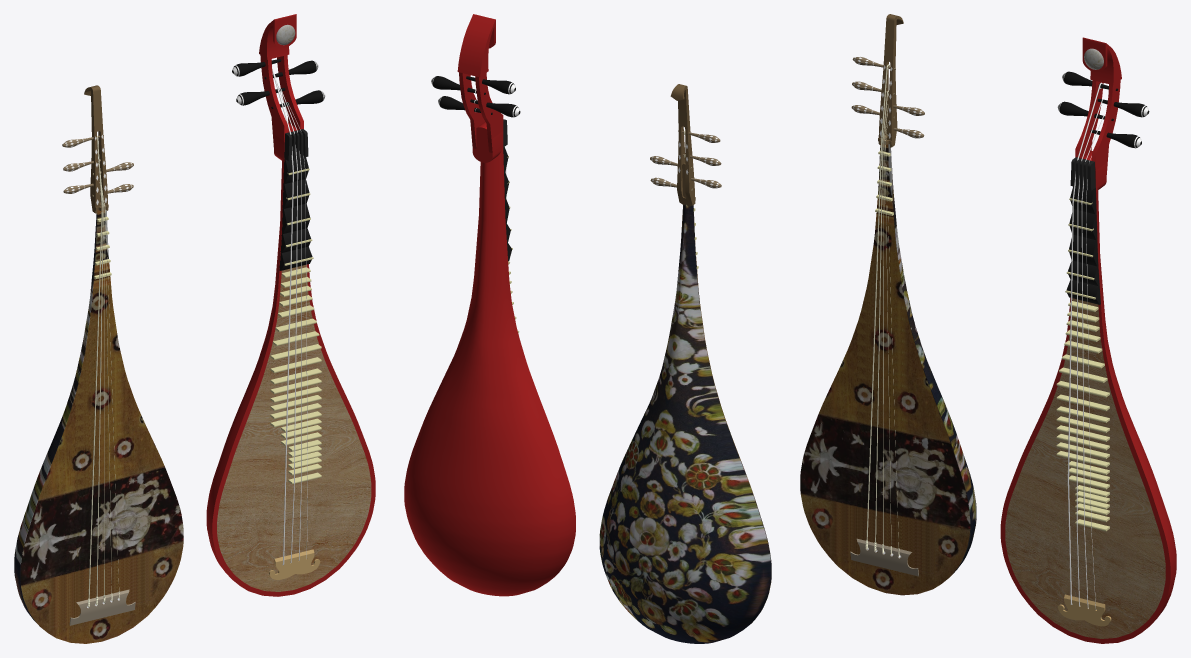
The model's file is pipa.glb.
The picture shows the model from 3 angles, left to right: view 1: azimuth 30°, elevation 25°; view 2: azimuth 150°, elevation 25°; view 3: azimuth 330°, elevation 25°; orthographic projection. The views are drawn at different scales.
Visible parts, largest first — view 1: Sphere007, Sphere005, Sphere003, Sphere001, Box002, Box004, Box024, Box025, Box061, Cylinder015, Cylinder002, Box023 (+7 smaller); view 2: Sphere003, Sphere001, Box025, Box002, Box024, Box023, Box021; view 3: Sphere007, Sphere005, Sphere003, Sphere001, Box002, Box004, Box025, Box023, Box061, Cylinder015, Cylinder002, Box024 (+9 smaller).
Boxes of the visible parts, x1=… form: Sphere007: x1=20, y1=210, x2=183, y2=643; Sphere005: x1=217, y1=265, x2=371, y2=591; Sphere003: x1=206, y1=156, x2=375, y2=596; Sphere001: x1=14, y1=214, x2=97, y2=626; Box002: x1=84, y1=85, x2=108, y2=213; Box004: x1=69, y1=589, x2=135, y2=625; Box024: x1=260, y1=55, x2=287, y2=146; Box025: x1=259, y1=14, x2=296, y2=59; Box061: x1=269, y1=549, x2=320, y2=579; Cylinder015: x1=272, y1=66, x2=293, y2=565; Cylinder002: x1=87, y1=135, x2=102, y2=607; Box023: x1=277, y1=55, x2=303, y2=129; Sphere003: x1=404, y1=146, x2=575, y2=596; Sphere001: x1=599, y1=204, x2=771, y2=643; Box025: x1=457, y1=14, x2=495, y2=77; Box002: x1=670, y1=84, x2=695, y2=206; Box024: x1=475, y1=73, x2=503, y2=152; Box023: x1=459, y1=72, x2=484, y2=148; Box021: x1=472, y1=122, x2=503, y2=162; Sphere007: x1=800, y1=143, x2=970, y2=595; Sphere005: x1=1005, y1=298, x2=1165, y2=638; Sphere003: x1=1000, y1=185, x2=1176, y2=643; Sphere001: x1=890, y1=147, x2=976, y2=573; Box002: x1=878, y1=14, x2=903, y2=147; Box004: x1=850, y1=538, x2=918, y2=576; Box025: x1=1082, y1=37, x2=1121, y2=84; Box023: x1=1092, y1=80, x2=1120, y2=174; Box061: x1=1058, y1=594, x2=1111, y2=626; Cylinder015: x1=1067, y1=82, x2=1102, y2=604; Cylinder002: x1=866, y1=64, x2=889, y2=549; Box024: x1=1075, y1=80, x2=1103, y2=158.
Size of the model in its own units: 0.7885 by 1.21 by 0.1446.
Materials: 399 (7 with a texture image).
